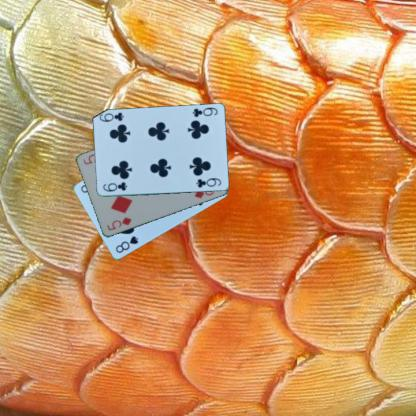5d: (104, 214, 132, 232)
6c: (190, 104, 218, 118), (101, 180, 128, 193)
8s: (113, 234, 139, 254)
